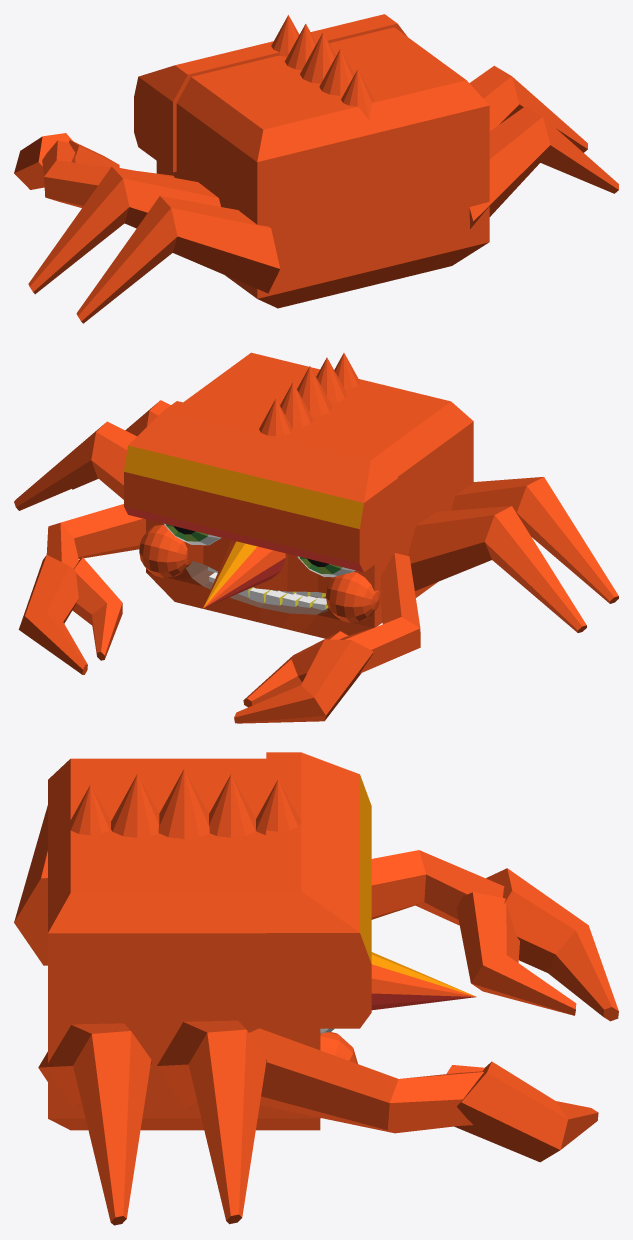
File: animals-crabsky-051.glb
3 renders of one model, top to bottom at view 1: azimuth 30°, elevation 25°; view 2: azimuth 150°, elevation 25°; view 3: azimuth 270°, elevation 25°, orthographic. The views are drawn at different scales.
Parts seen in each view (by area): view 1: group43012972, group277792450, group549140783, group1620815895, group1049538422, group1979824825, group1553145512, group1980189110, group757286386, group798837006, group1558657465, group699940520 (+2 smaller); view 2: group1620815895, group43012972, group549140783, group277792450, group1980189110, group1979824825, group2050903260, group1553145512, group2101576607, group1445251646, group621513930, group1614764678 (+11 smaller); view 3: group43012972, group1620815895, group2101576607, group1979824825, group1049538422, group1980189110, group2050903260, group395511138, group1553145512, group1445251646, group277792450, group757286386 (+5 smaller).
Boxes of the visible parts, bbox=[...] form: group43012972: bbox=[156, 27, 489, 308]; group277792450: bbox=[76, 196, 280, 323]; group549140783: bbox=[28, 166, 220, 294]; group1620815895: bbox=[134, 14, 407, 172]; group1049538422: bbox=[469, 106, 618, 228]; group1979824825: bbox=[469, 65, 587, 152]; group1553145512: bbox=[42, 140, 174, 207]; group1980189110: bbox=[14, 133, 73, 189]; group757286386: bbox=[300, 32, 335, 83]; group798837006: bbox=[319, 49, 354, 95]; group1558657465: bbox=[341, 69, 374, 119]; group699940520: bbox=[284, 24, 316, 69]; group1620815895: bbox=[124, 401, 397, 572]; group43012972: bbox=[146, 352, 473, 638]; group549140783: bbox=[408, 506, 586, 632]; group277792450: bbox=[451, 477, 618, 603]; group1980189110: bbox=[234, 639, 373, 723]; group1979824825: bbox=[14, 421, 136, 510]; group2050903260: bbox=[18, 555, 87, 674]; group1553145512: bbox=[339, 553, 420, 673]; group2101576607: bbox=[46, 504, 145, 568]; group1445251646: bbox=[203, 540, 285, 608]; group621513930: bbox=[72, 557, 122, 660]; group1614764678: bbox=[326, 572, 380, 622]; group43012972: bbox=[48, 758, 320, 1130]; group1620815895: bbox=[266, 752, 371, 1028]; group2101576607: bbox=[249, 1028, 483, 1133]; group1979824825: bbox=[157, 1020, 266, 1224]; group1049538422: bbox=[38, 1023, 151, 1225]; group1980189110: bbox=[486, 868, 618, 1021]; group2050903260: bbox=[454, 1061, 598, 1162]; group395511138: bbox=[456, 892, 576, 1015]; group1553145512: bbox=[371, 850, 504, 925]; group1445251646: bbox=[371, 952, 476, 1010]; group277792450: bbox=[14, 805, 47, 965]; group757286386: bbox=[158, 769, 209, 838].
Size of the model in its own units: 1.47 by 0.5604 by 0.9952.
